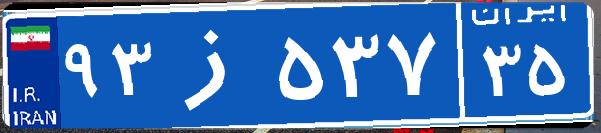3: (330, 28, 385, 110), (475, 38, 525, 113), (110, 28, 158, 105)
5: (273, 28, 330, 110), (525, 38, 570, 115)
7: (385, 28, 445, 110)
9: (57, 26, 110, 107)
ز: (158, 15, 273, 115)
